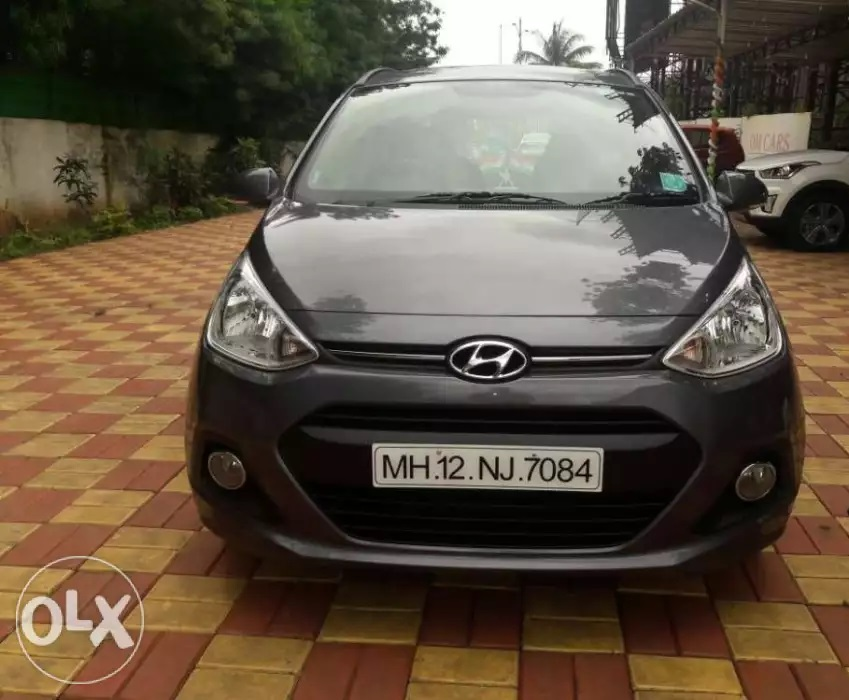licenseplate: (370, 440, 610, 496)
